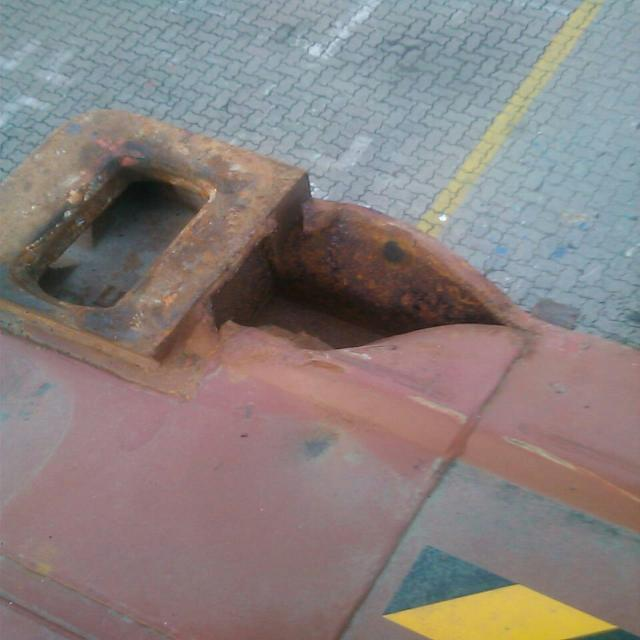hole: (206, 194, 551, 364)
